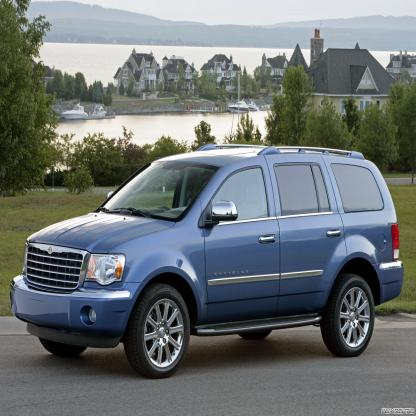Vehicle: (9, 139, 405, 379)
